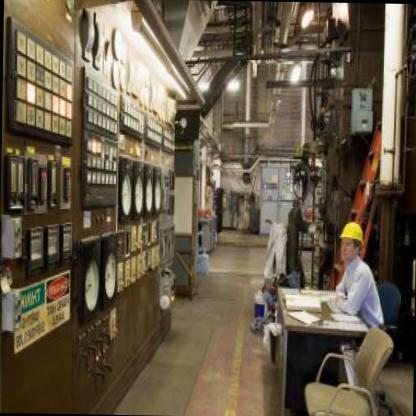helmet: (336, 217, 364, 266)
